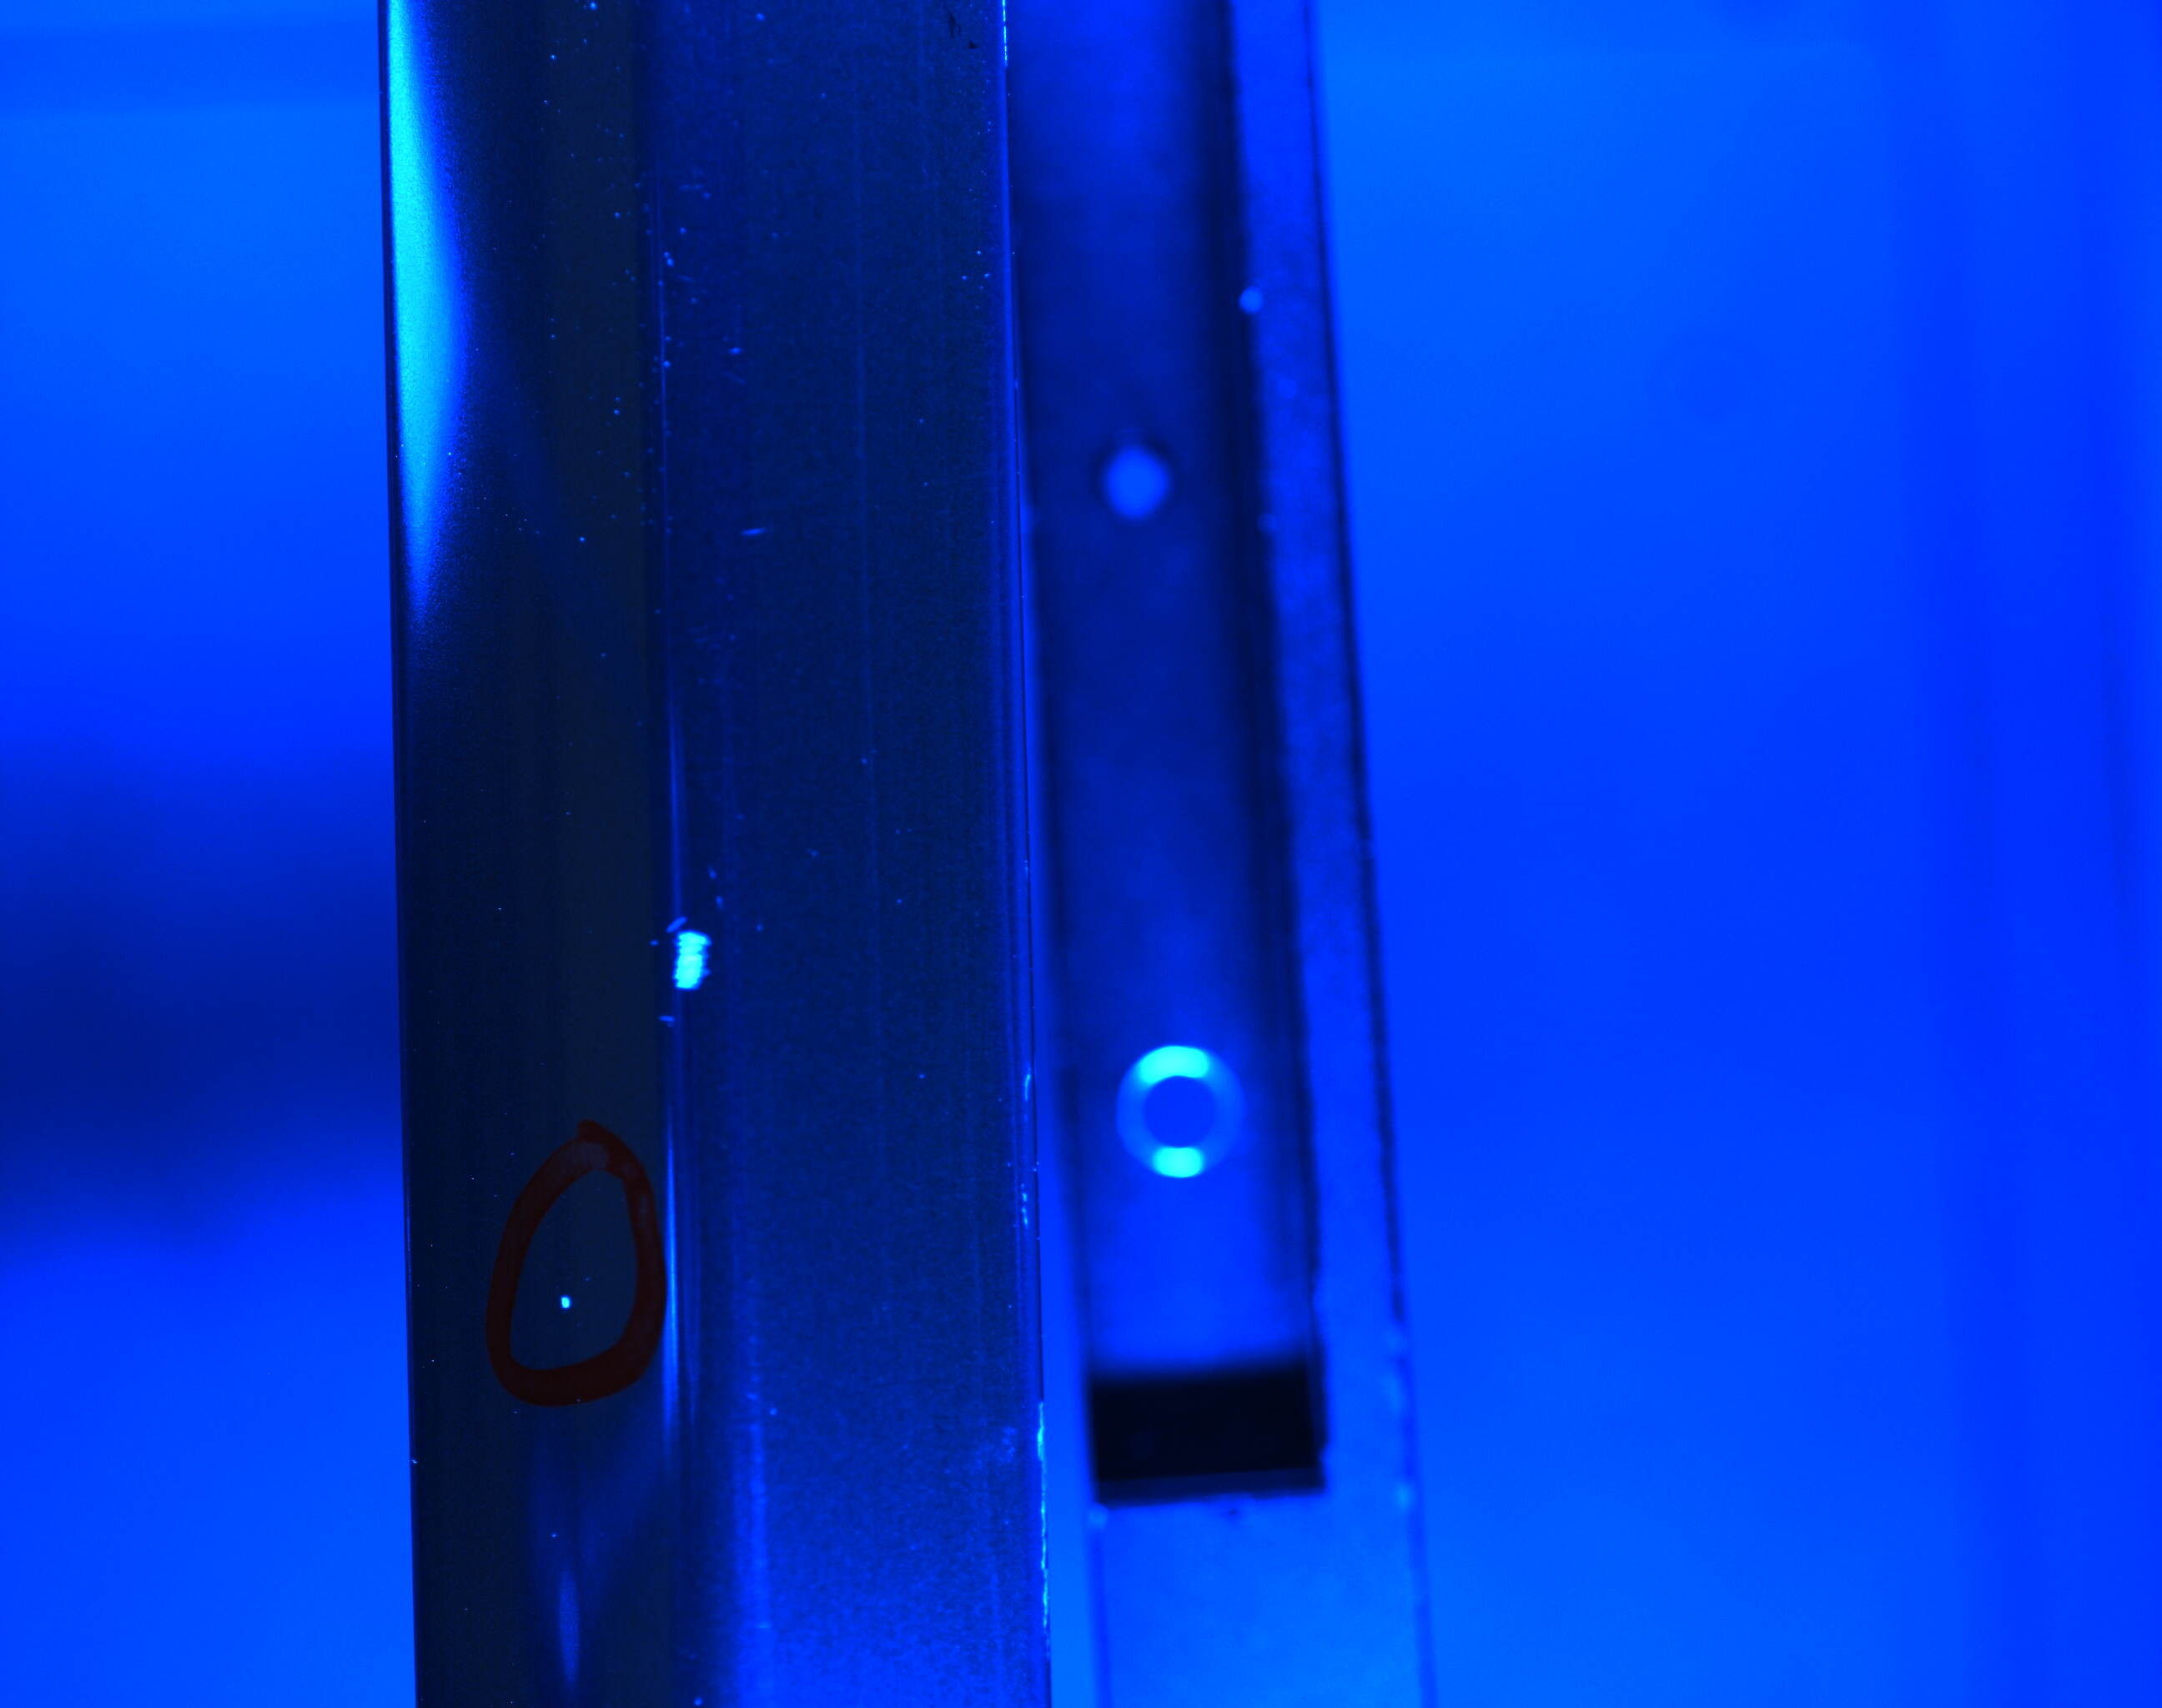NG: (639, 895, 728, 1030), (1025, 1396, 1058, 1631), (1009, 1073, 1037, 1299), (540, 1280, 595, 1339)
